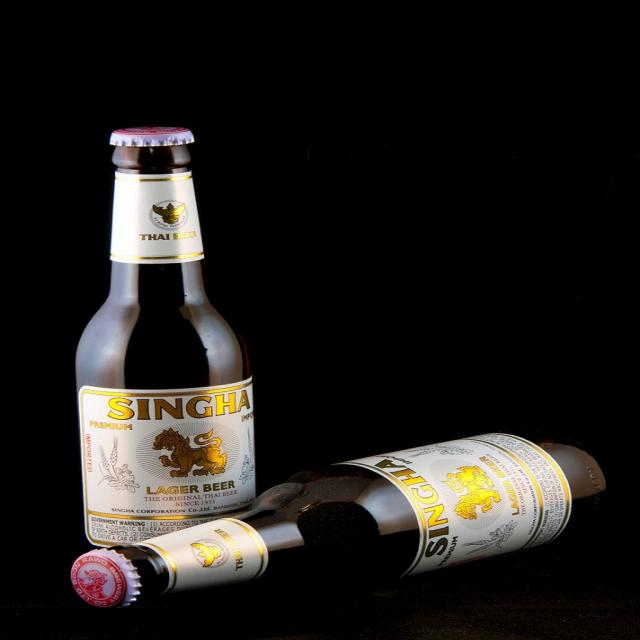singha: (343, 438, 544, 576), (79, 385, 256, 523)
